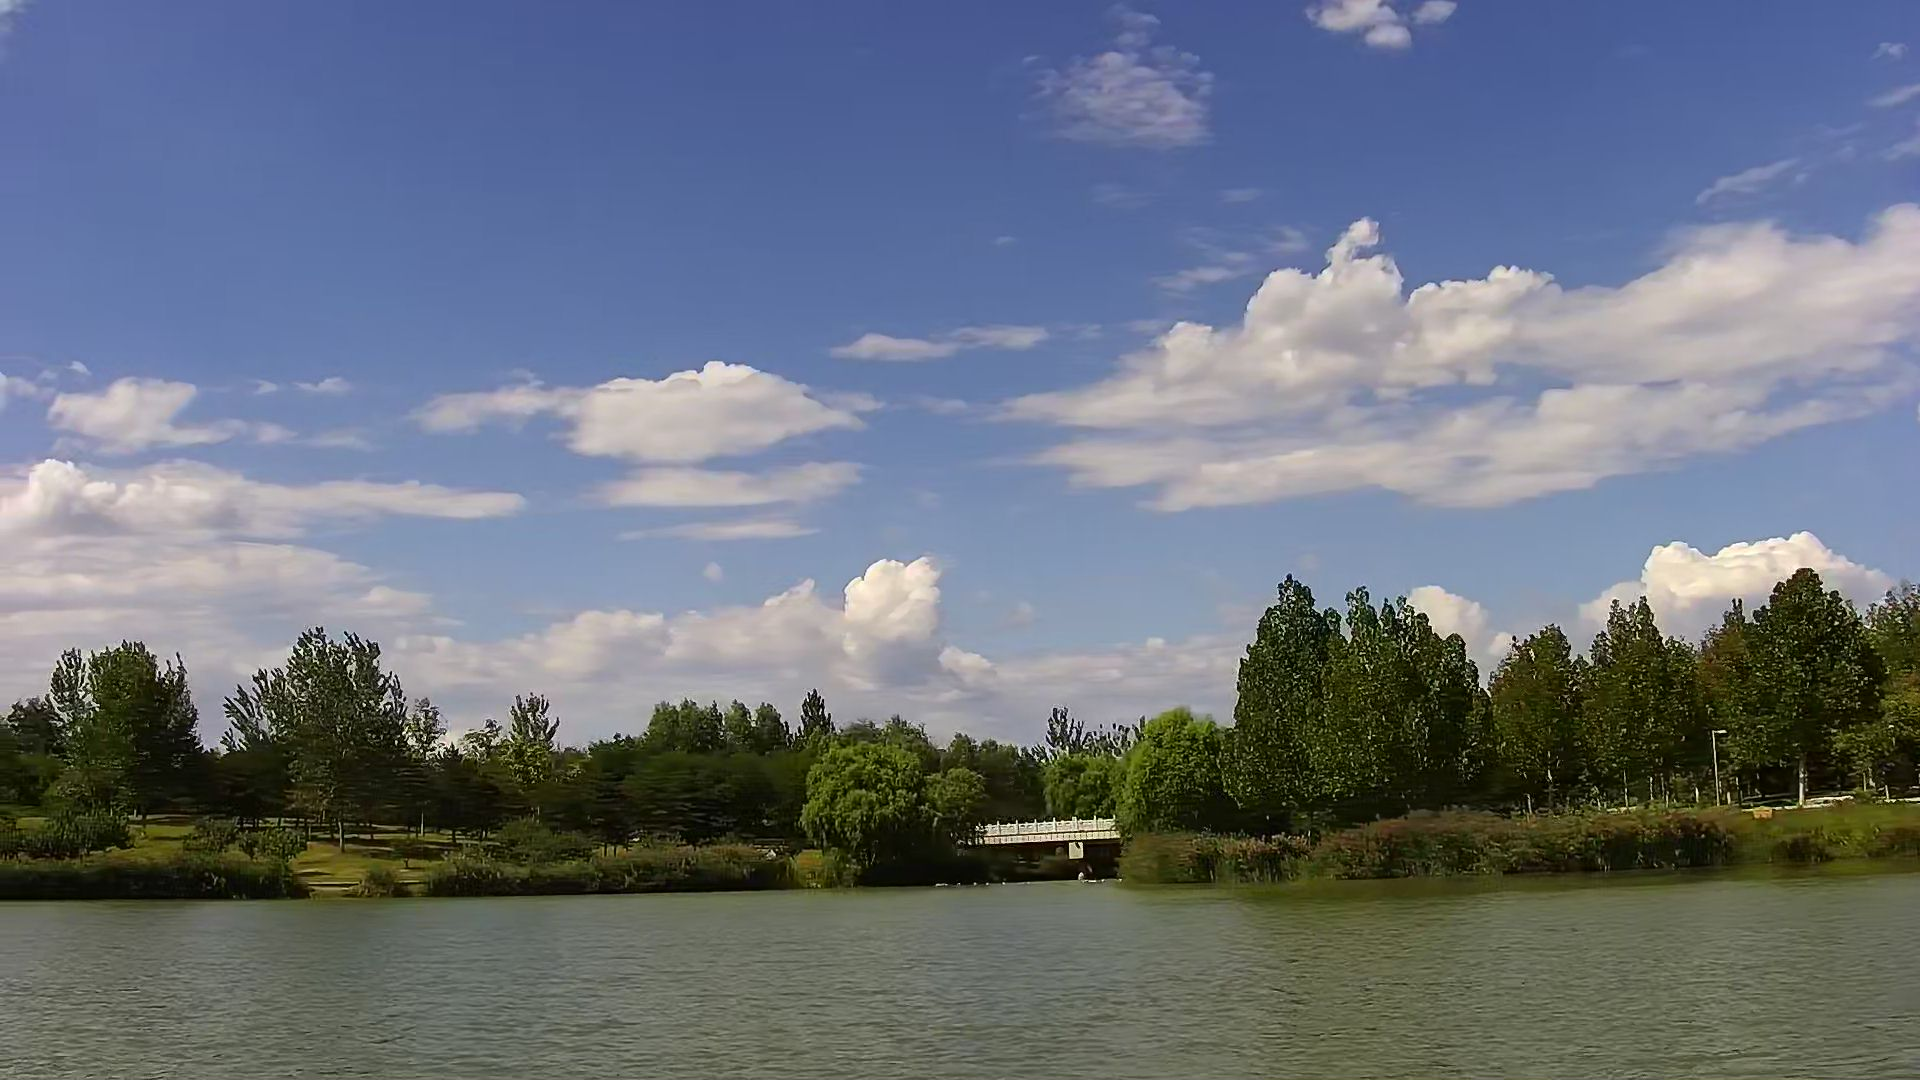bridge: (981, 814, 1124, 880)
